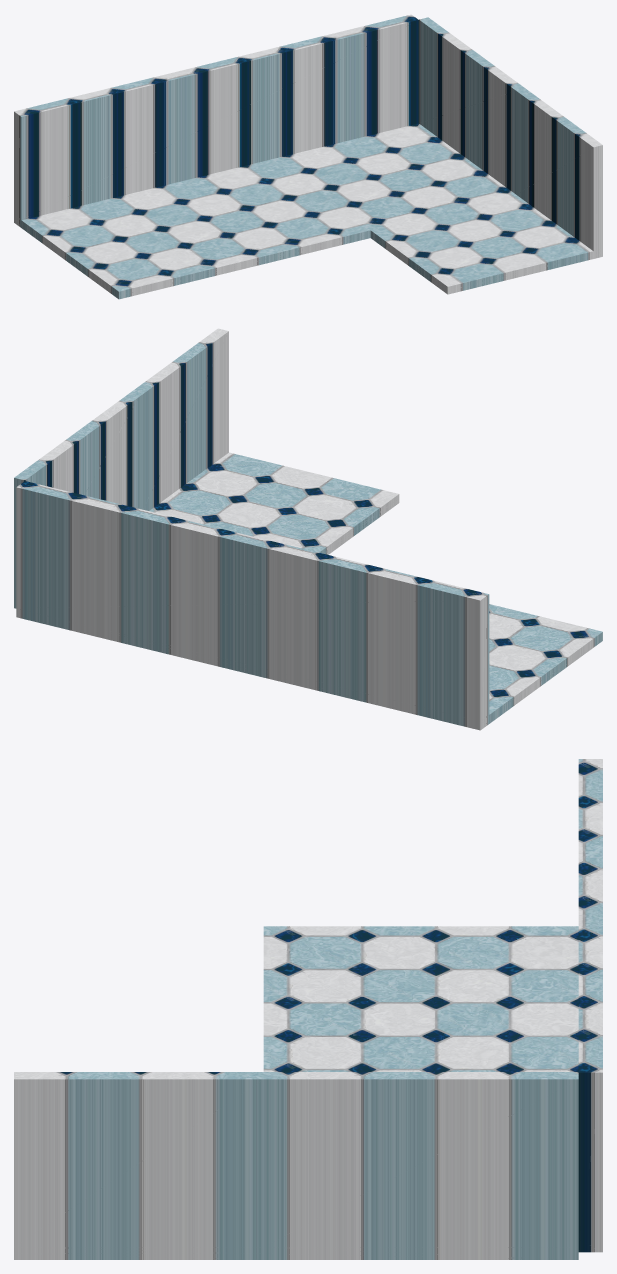
Rendered from PerfectKitchen.obj.
3 renders of one model, top to bottom at view 1: azimuth 30°, elevation 25°; view 2: azimuth 150°, elevation 25°; view 3: azimuth 270°, elevation 25°, orthographic. The views are drawn at different scales.
Visible parts, largest first — view 1: Cube; view 2: Cube; view 3: Cube.
Boxes of the visible parts, box(x1,y1,x2,y2) form: Cube: box(14, 14, 602, 299); Cube: box(14, 328, 602, 730); Cube: box(14, 759, 602, 1259).
Bounding box in the file's own units: 14.34 × 3.76 × 11.12.
